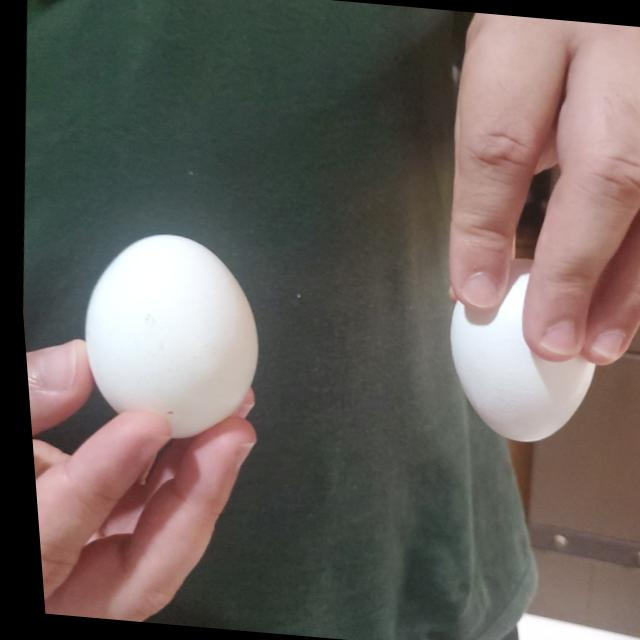egg: (66, 222, 270, 438), (428, 264, 600, 452)
